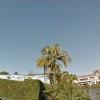Tree: (34, 35, 79, 84)
